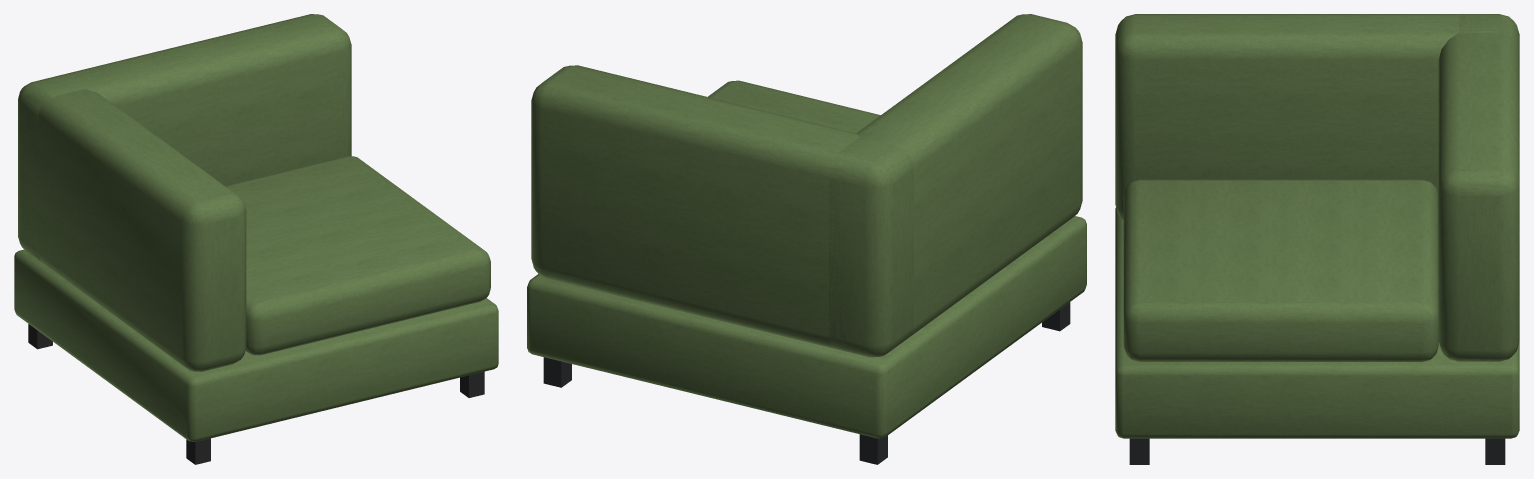
Rendered from lounge.modular-sofa-corner.glb.
3 views of the same model, side by side, from view 1: azimuth 30°, elevation 25°; view 2: azimuth 150°, elevation 25°; view 3: azimuth 270°, elevation 25° (orthographic). The views are drawn at different scales.
Visible parts, largest first — view 1: lounge.modular-sofa-corner.001; view 2: lounge.modular-sofa-corner.001; view 3: lounge.modular-sofa-corner.001.
Part boxes in pixels (x1,y1,x2,y2): lounge.modular-sofa-corner.001: (14,14,498,464); lounge.modular-sofa-corner.001: (527,14,1086,464); lounge.modular-sofa-corner.001: (1115,14,1519,464).
Size of the model in its own units: 1 by 0.8 by 1.
2 materials, 1 textured.
